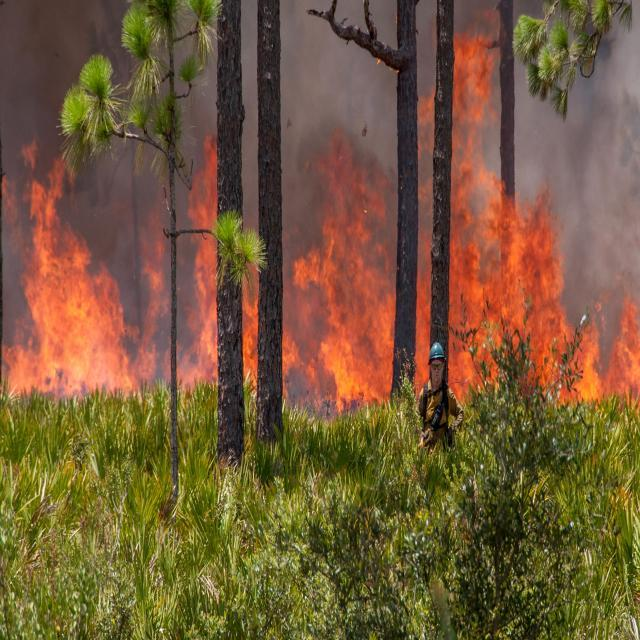Fire: (3, 184, 166, 397), (452, 242, 640, 403), (282, 157, 394, 411), (454, 36, 550, 240), (184, 140, 220, 387), (242, 274, 260, 398), (417, 264, 429, 389)
Smoke: (283, 6, 396, 137), (3, 0, 88, 136), (567, 84, 635, 235)
